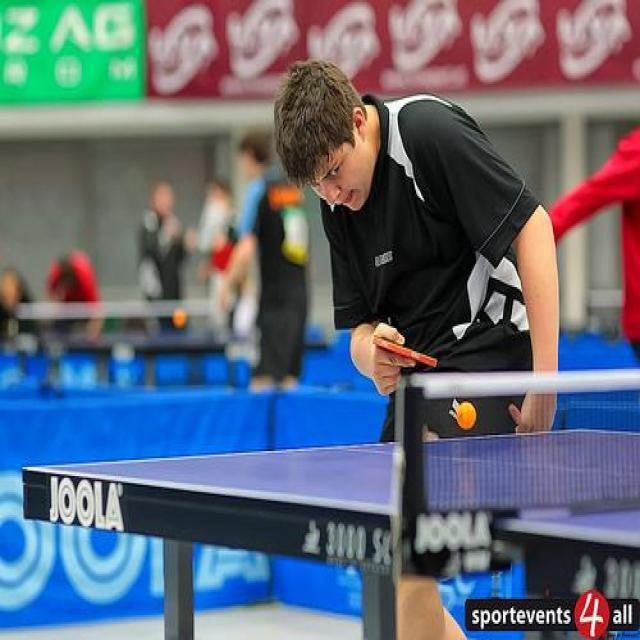ping-pong-ball: (454, 400, 478, 430)
